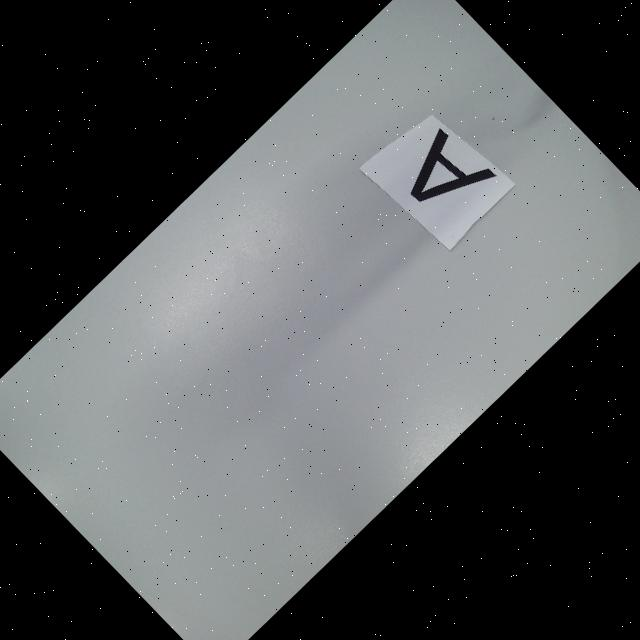FAKE: (392, 121, 496, 226)
